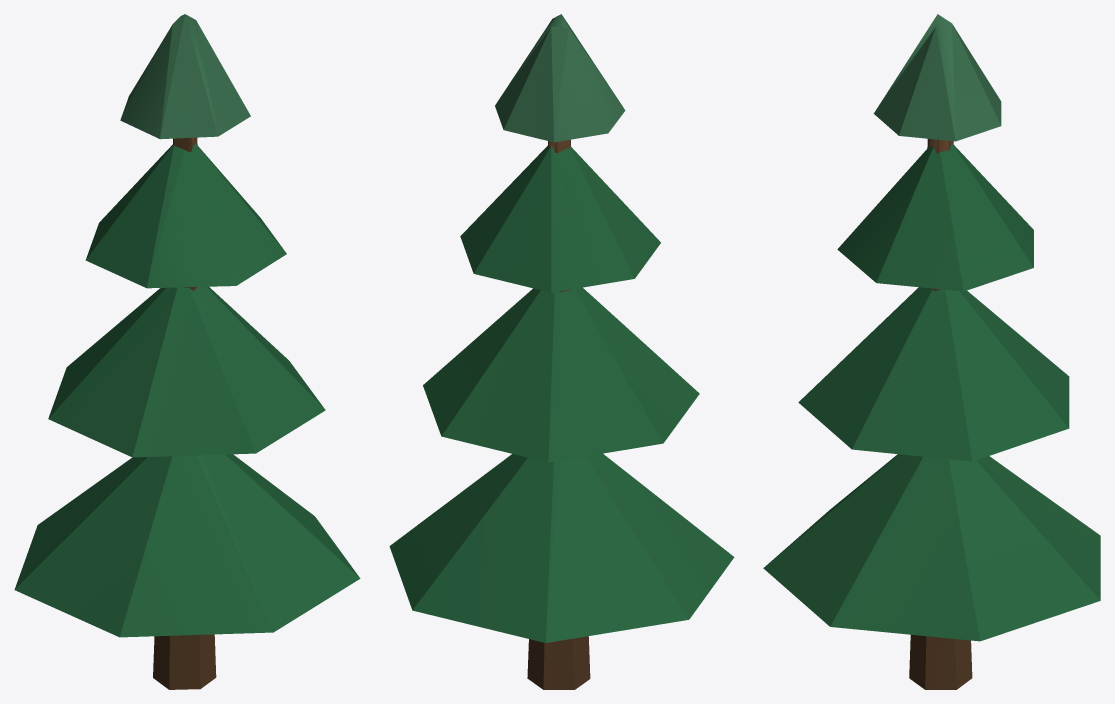
The model's file is prop_tree_lod2.glb.
3 renders of one model, left to right at view 1: azimuth 30°, elevation 25°; view 2: azimuth 150°, elevation 25°; view 3: azimuth 270°, elevation 25°, orthographic.
Parts seen in each view (by area): view 1: prop_tree_lod2; view 2: prop_tree_lod2; view 3: prop_tree_lod2.
Part boxes in pixels (x1,y1,x2,y2): prop_tree_lod2: [14, 14, 360, 689]; prop_tree_lod2: [389, 14, 734, 689]; prop_tree_lod2: [763, 14, 1100, 689].
Size of the model in its own units: 2.56 by 5.41 by 2.49.
